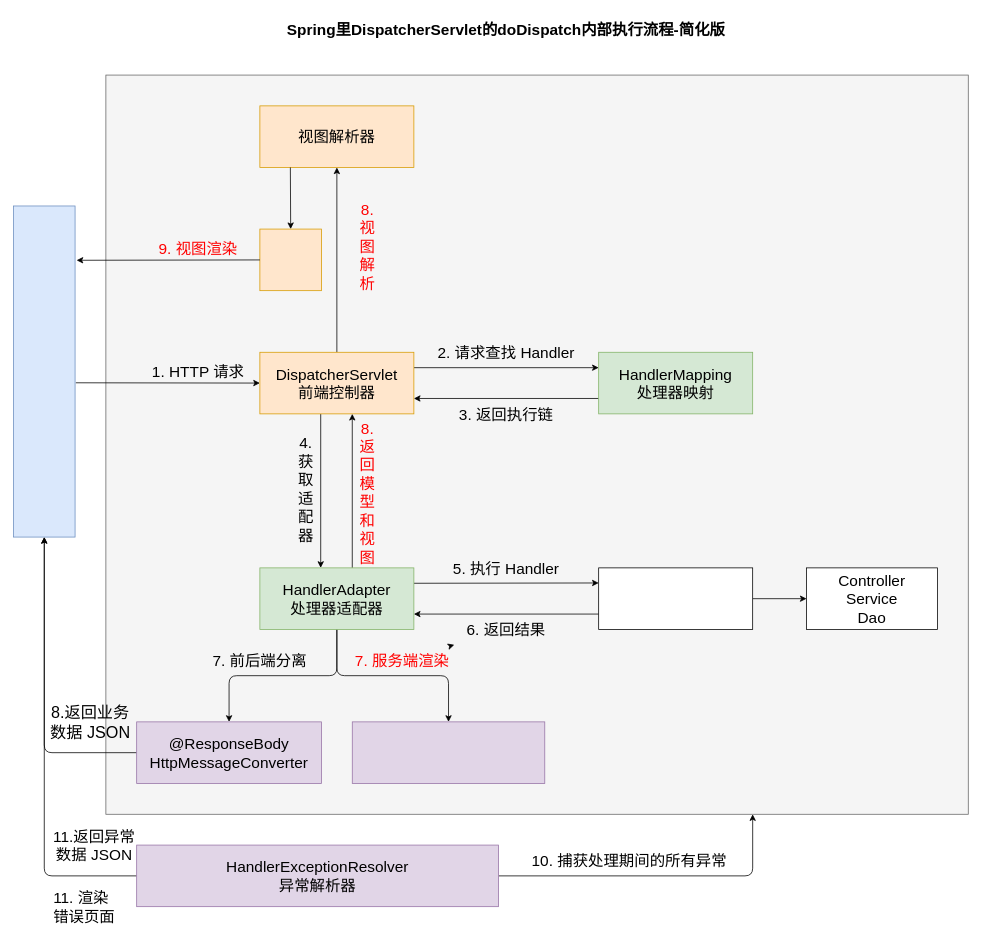
Image size: 982x950. Some labels were removed from this diagram. Here are the shapes that lost their labels. From the top down, the centre of each, then its label:
At (x=290, y=259): "View 视图".
At (x=44, y=371): "客 户 端".
At (x=675, y=598): "Handler处理器 对应 Controller".
At (x=448, y=752): "ModelAndView".
